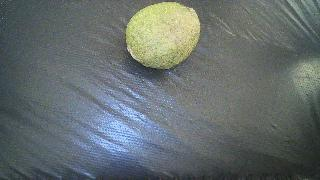DESECHO: (126, 2, 201, 69)
